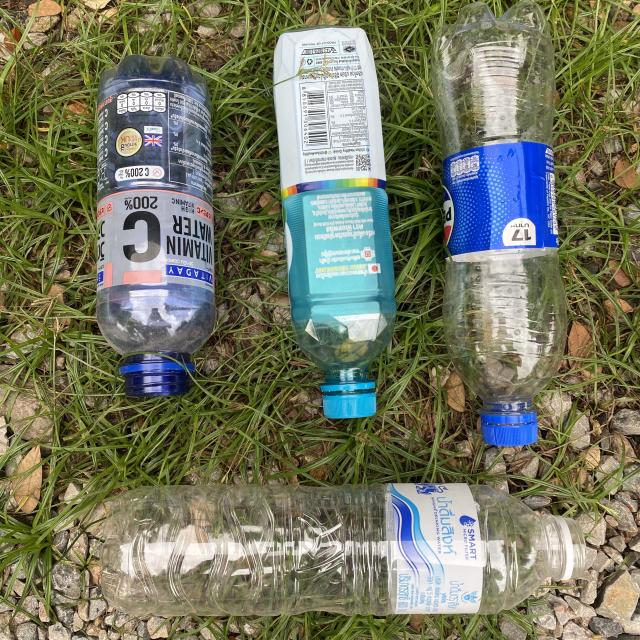plastik: (100, 484, 586, 616), (431, 1, 566, 446), (274, 26, 396, 419), (96, 55, 215, 396)
